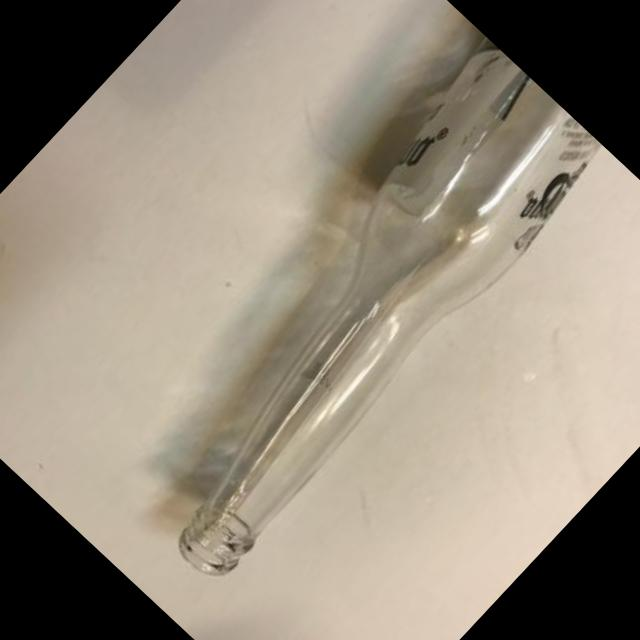BotolKaca: (83, 36, 620, 590)
